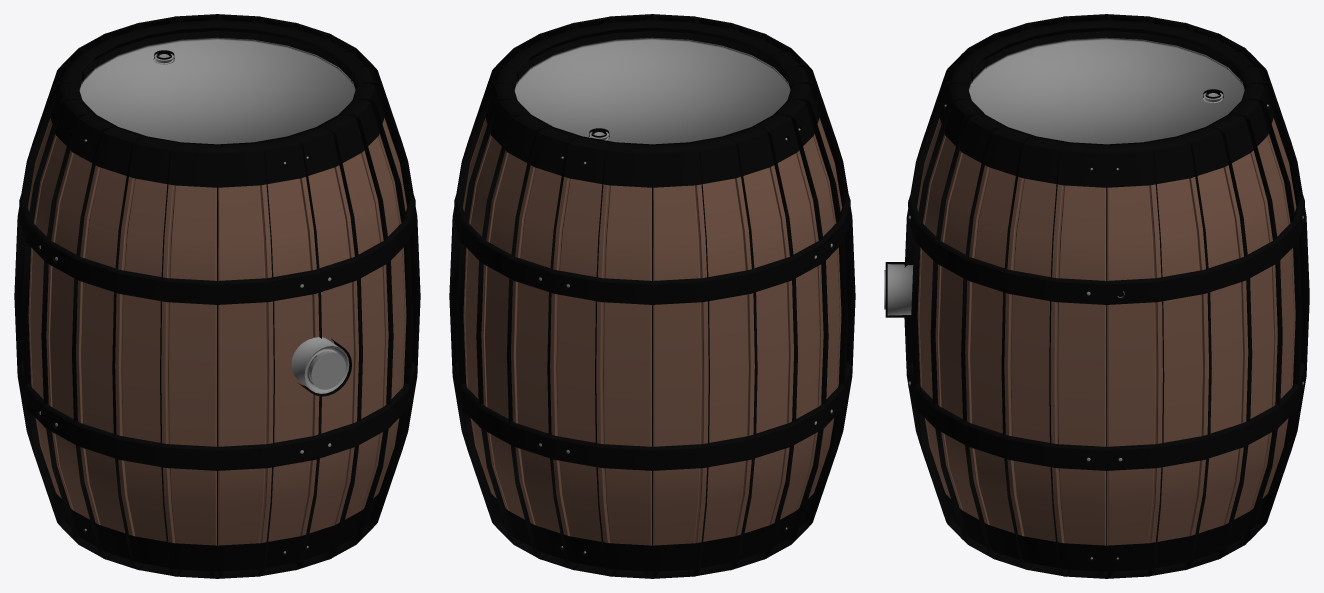
Rendered from Barril.fbx.
The picture shows the model from 3 angles, left to right: view 1: azimuth 30°, elevation 25°; view 2: azimuth 150°, elevation 25°; view 3: azimuth 270°, elevation 25°; orthographic projection.
Visible parts, largest first — view 1: barrel_log_v.005, barrel_leak_cap, barrel_uppercover, barrel_plug; view 2: barrel_log_v.005, barrel_leak_cap, barrel_uppercover; view 3: barrel_log_v.005, barrel_leak_cap, barrel_uppercover.
Part boxes in pixels (x1=…): barrel_log_v.005: x1=14, y1=14, x2=420, y2=578; barrel_leak_cap: x1=19, y1=20, x2=415, y2=571; barrel_uppercover: x1=79, y1=37, x2=355, y2=144; barrel_plug: x1=308, y1=351, x2=345, y2=389; barrel_log_v.005: x1=449, y1=14, x2=855, y2=578; barrel_leak_cap: x1=454, y1=20, x2=850, y2=571; barrel_uppercover: x1=514, y1=37, x2=790, y2=144; barrel_log_v.005: x1=904, y1=14, x2=1309, y2=578; barrel_leak_cap: x1=885, y1=20, x2=1304, y2=571; barrel_uppercover: x1=968, y1=37, x2=1244, y2=144.
Size of the model in its own units: 1.42 by 1.66 by 1.49.
